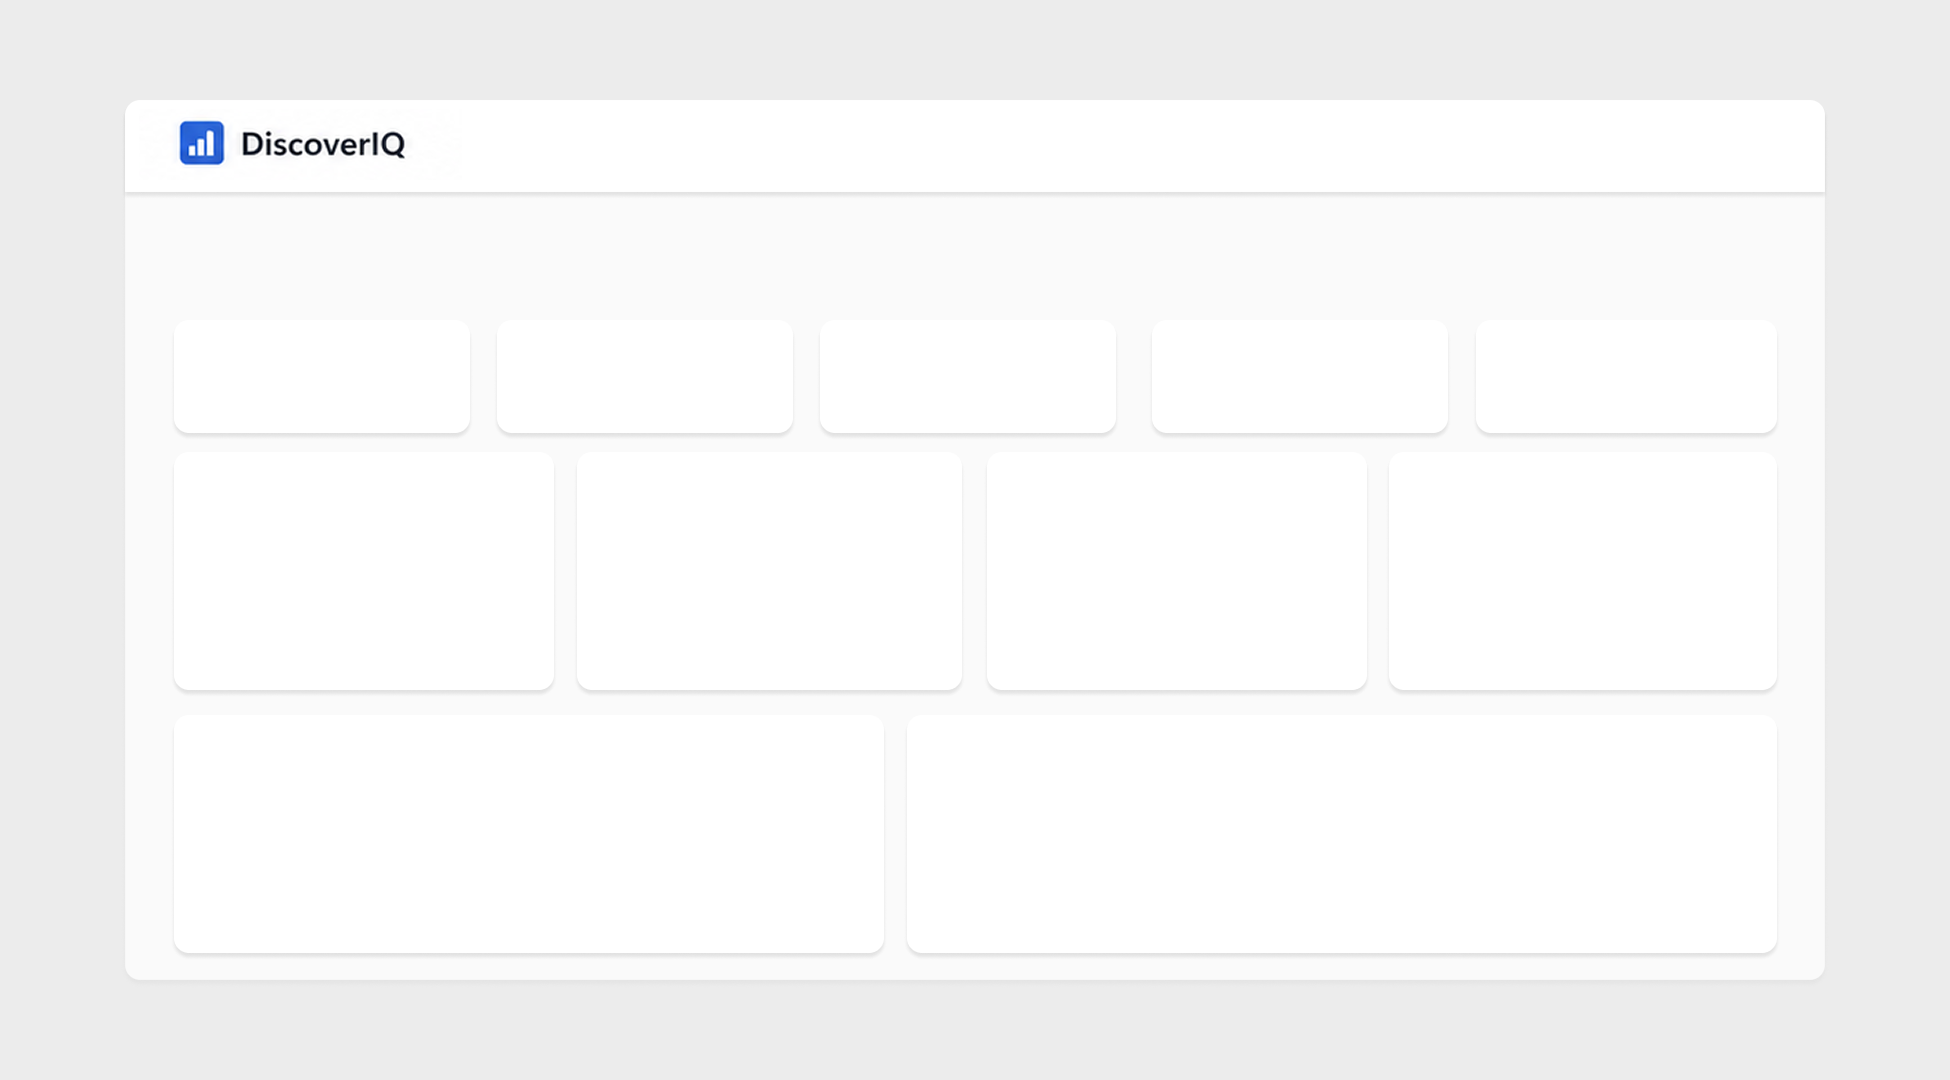

Layout of this report page (visuals, bound fields, positions):
{"tool":"powerbi","page":{"name":"Home Page","canvas":[1920,1080],"ordinal":0},"visuals":[{"type":"actionButton","box":[124.4,296.7,212.2,55.6],"z":0},{"type":"actionButton","box":[124.4,373.3,212.2,55.6],"z":1},{"type":"actionButton","box":[124.4,452.8,212.2,55.6],"z":2},{"type":"actionButton","box":[124.4,527.8,212.2,55.6],"z":3},{"type":"actionButton","box":[124.4,612.2,212.2,55.6],"z":4}]}

Visuals, with their boxes in screenshot pixels (x1, y1, x2, y2), scaled from the page's 1920x1080 canvas onto the 1950x1080 screenshot:
actionButton: BBox(126, 297, 342, 352)
actionButton: BBox(126, 373, 342, 429)
actionButton: BBox(126, 453, 342, 508)
actionButton: BBox(126, 528, 342, 583)
actionButton: BBox(126, 612, 342, 668)
